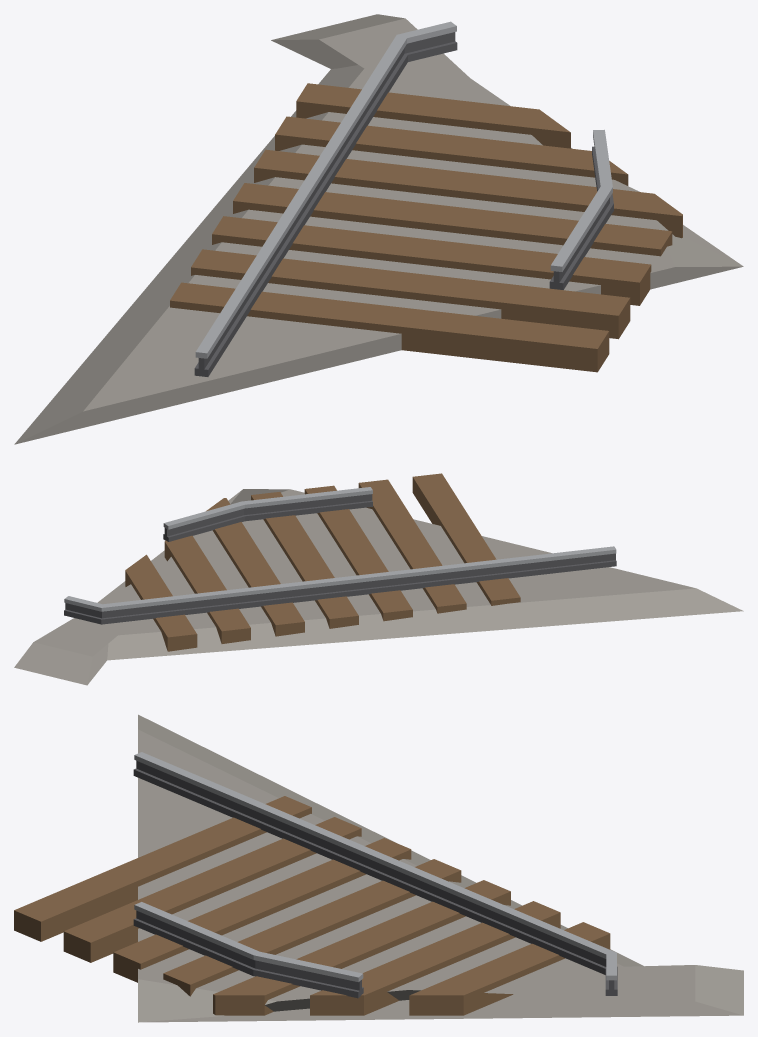
The model's file is SM_Rail_Diagonal_Join_B.glb.
3 views of the same model, one above another, from view 1: azimuth 30°, elevation 25°; view 2: azimuth 150°, elevation 25°; view 3: azimuth 270°, elevation 25° (orthographic). The views are drawn at different scales.
Parts seen in each view (by area): view 1: SM_Rail_Diagonal_Join_B; view 2: SM_Rail_Diagonal_Join_B; view 3: SM_Rail_Diagonal_Join_B.
Part boxes in pixels (x1,y1,x2,y2): SM_Rail_Diagonal_Join_B: [14, 14, 743, 444]; SM_Rail_Diagonal_Join_B: [14, 473, 743, 685]; SM_Rail_Diagonal_Join_B: [14, 714, 743, 1022].
Bounding box in the file's own units: 4.19 × 0.254 × 4.19.
